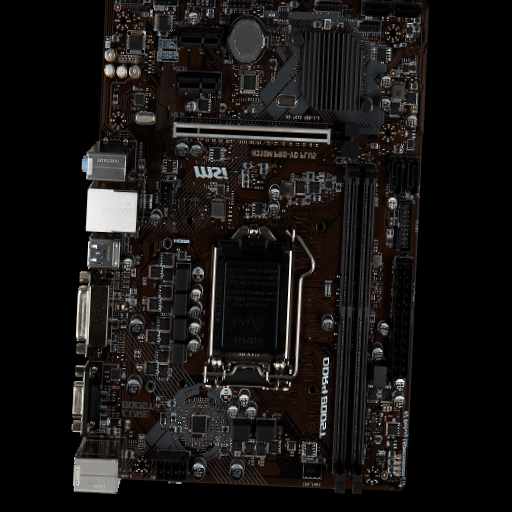CPU: (203, 225, 300, 390)
GPU: (171, 121, 362, 156)
MOTHERBOARD: (72, 3, 431, 492)
RAM: (332, 164, 379, 495)
